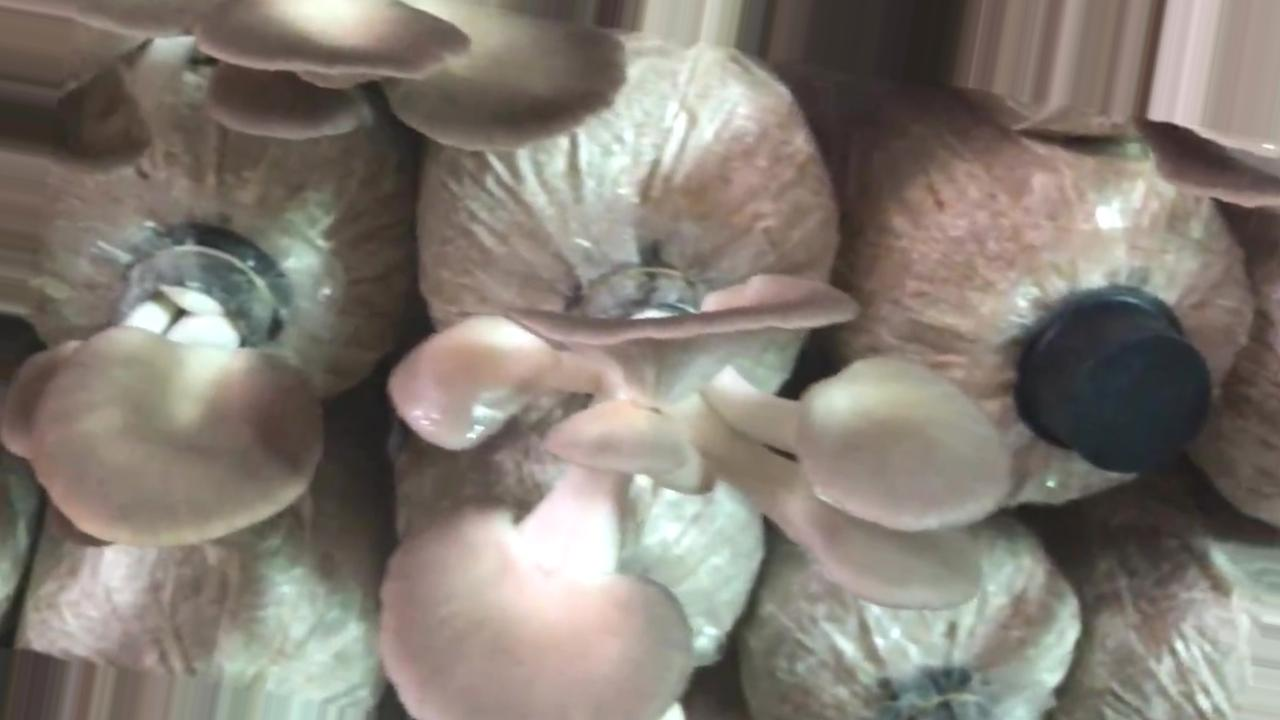nam: (380, 270, 1015, 720), (1, 221, 327, 548), (1, 1, 630, 156)
